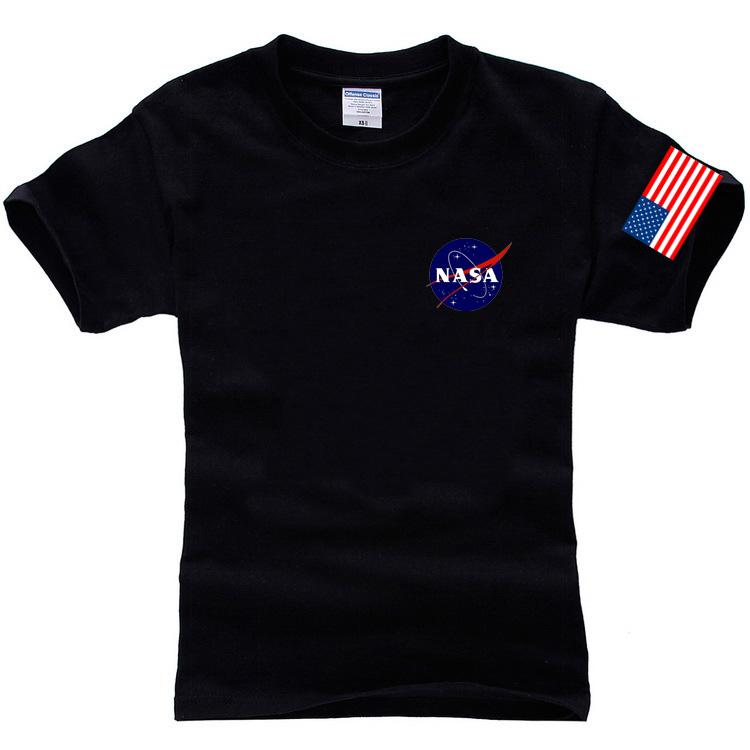NASA: (425, 237, 515, 315)
